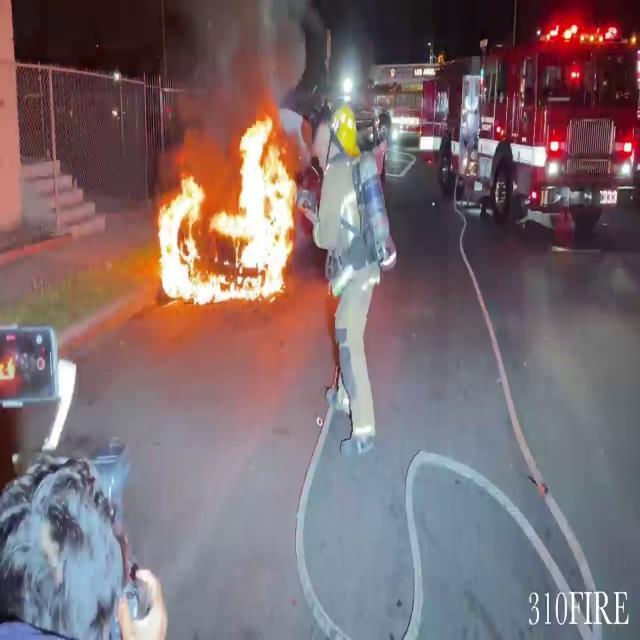Fire: (151, 111, 300, 309)
Smoke: (169, 0, 315, 124)
